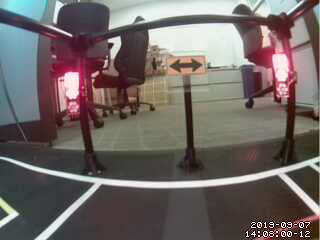Left_Right_sign: (272, 50, 289, 102), (62, 71, 80, 120)
